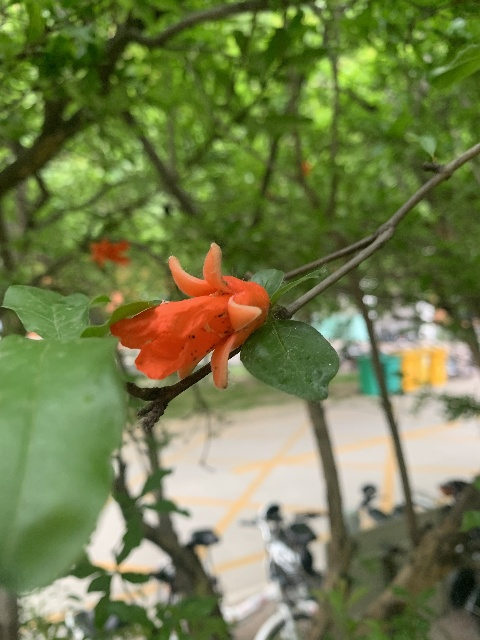flower: (111, 244, 268, 388), (88, 239, 130, 269)
